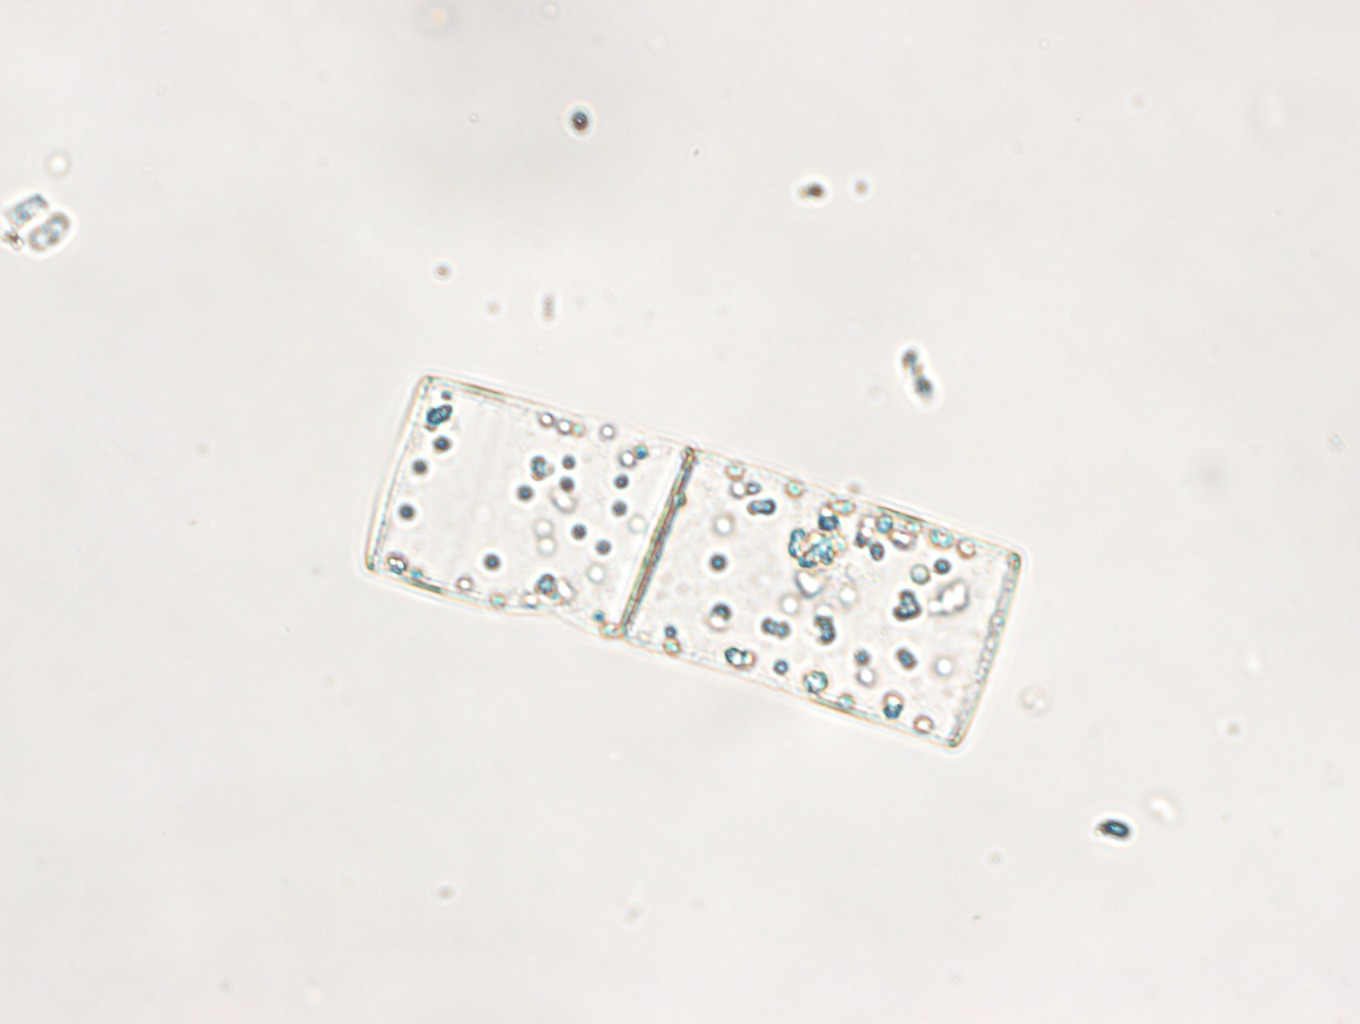guinardia flaccida: (361, 370, 1023, 753)
